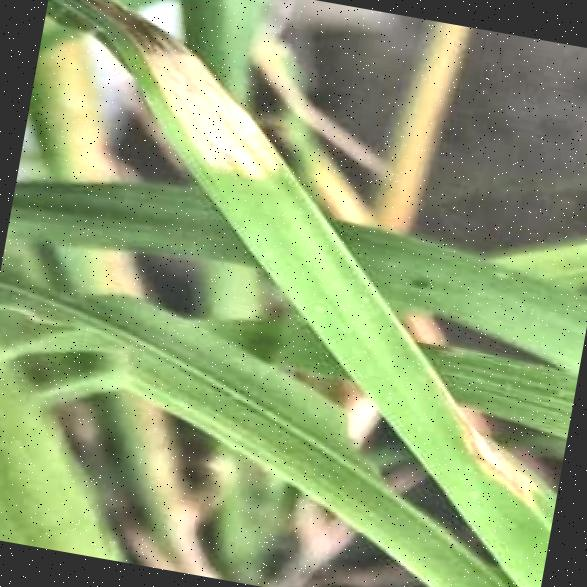Leaf_smut: (409, 369, 572, 508)
